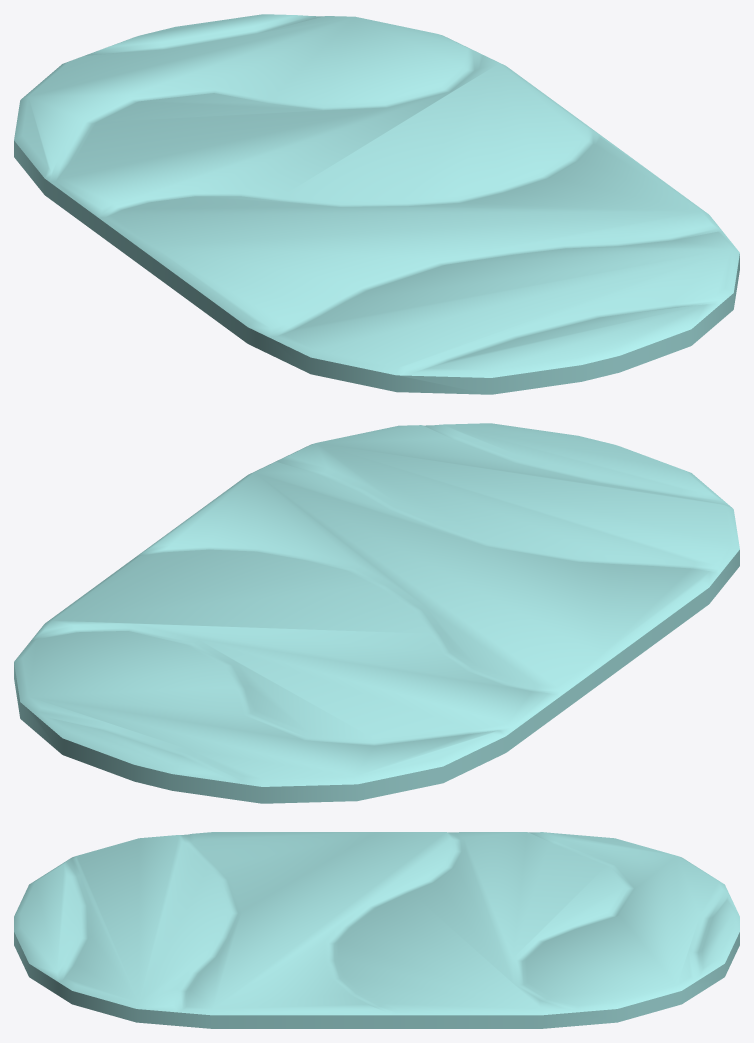
The model's file is Tapis2.fbx.
3 renders of one model, top to bottom at view 1: azimuth 30°, elevation 25°; view 2: azimuth 150°, elevation 25°; view 3: azimuth 270°, elevation 25°, orthographic. The views are drawn at different scales.
Visible parts, largest first — view 1: Tapis2; view 2: Tapis2; view 3: Tapis2.
Part boxes in pixels (bbox=[...]): Tapis2: bbox=[14, 14, 739, 394]; Tapis2: bbox=[14, 423, 739, 803]; Tapis2: bbox=[14, 832, 739, 1028].
Bounding box in the file's own units: 151 × 254 × 6.64.
